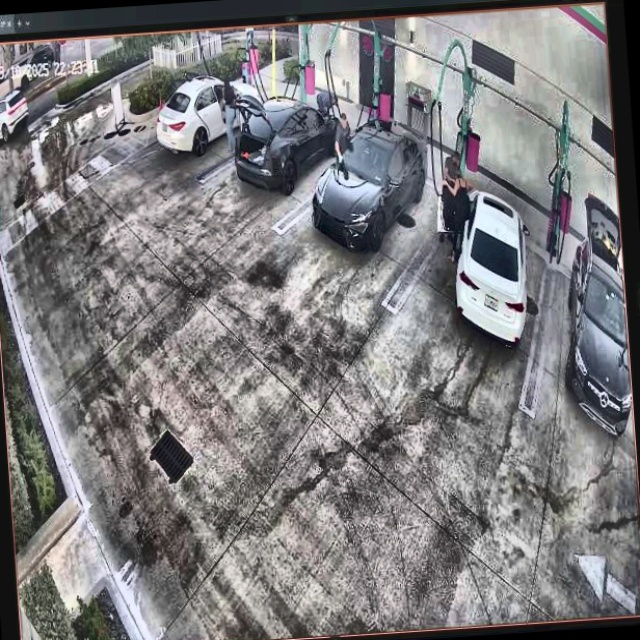Car: (432, 157, 538, 351), (307, 106, 437, 258), (232, 86, 356, 201), (154, 71, 265, 168)
